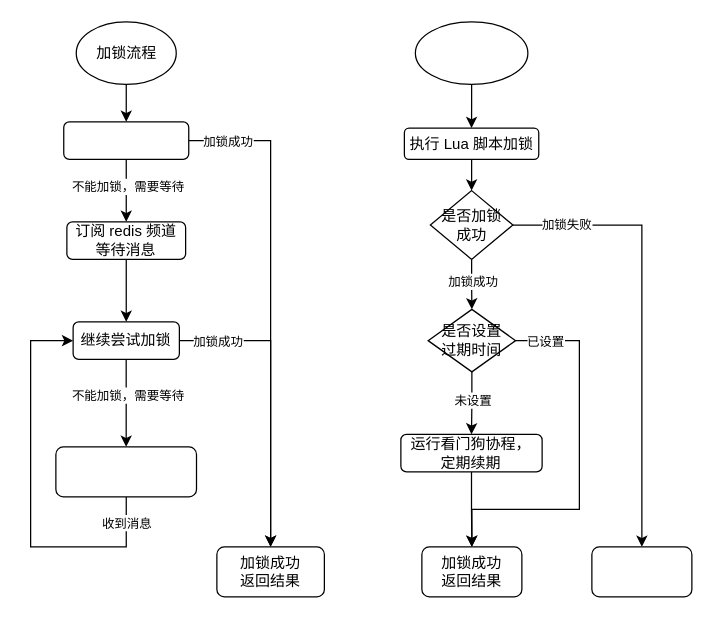
The diagram is 714 pixels wide and 619 high, and some of its shapes have lost their labels. The box of each missing label's shape, as (x1, y1, x2, y2) in pixels:
加锁内部逻辑: (414, 21, 528, 84)
加锁失败 返回结果: (591, 546, 692, 597)
尝试加锁一次: (62, 121, 189, 159)
阻塞等待 redis 的 频道消息: (55, 446, 196, 497)
